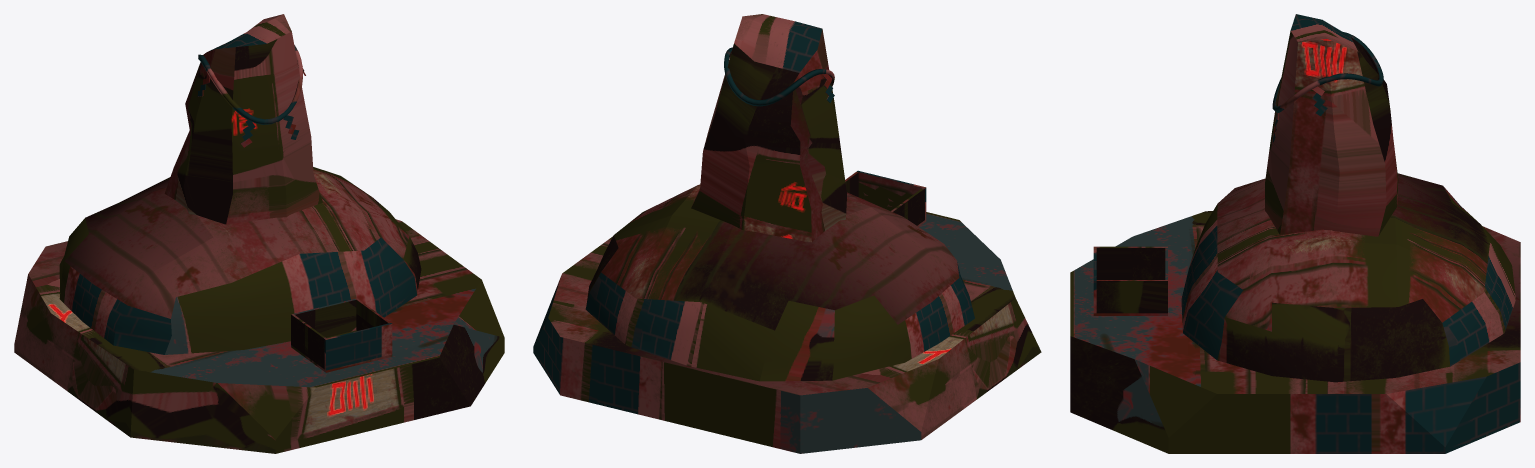
The model's file is Pedra_Escritas.fbx.
The picture shows the model from 3 angles, left to right: view 1: azimuth 30°, elevation 25°; view 2: azimuth 150°, elevation 25°; view 3: azimuth 270°, elevation 25°; orthographic projection. The views are drawn at different scales.
Parts seen in each view (by area): view 1: Pedra_Escritas_LOD0; view 2: Pedra_Escritas_LOD0; view 3: Pedra_Escritas_LOD0.
Part boxes in pixels (box(x1,y1,x2,y2)): Pedra_Escritas_LOD0: box(14, 14, 504, 453); Pedra_Escritas_LOD0: box(533, 14, 1041, 453); Pedra_Escritas_LOD0: box(1070, 14, 1520, 453).
Size of what is drawn, in the model's own units: 170 by 141 by 170.
